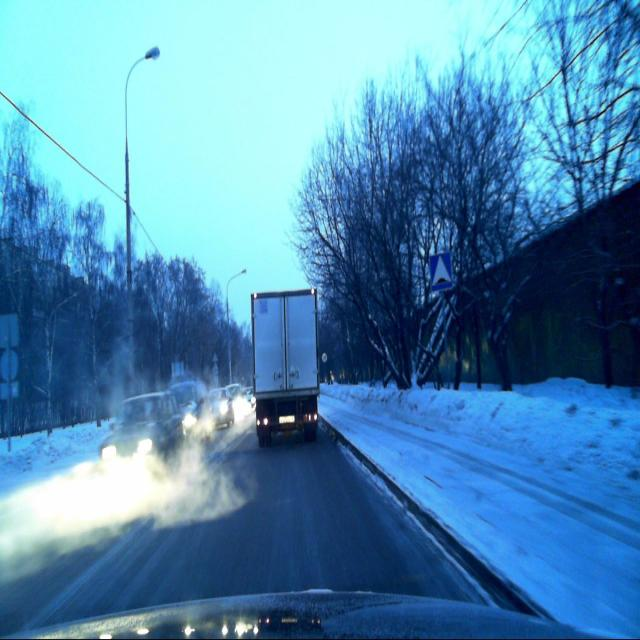object: (442, 294, 450, 388)
road sign: (430, 251, 452, 291)
